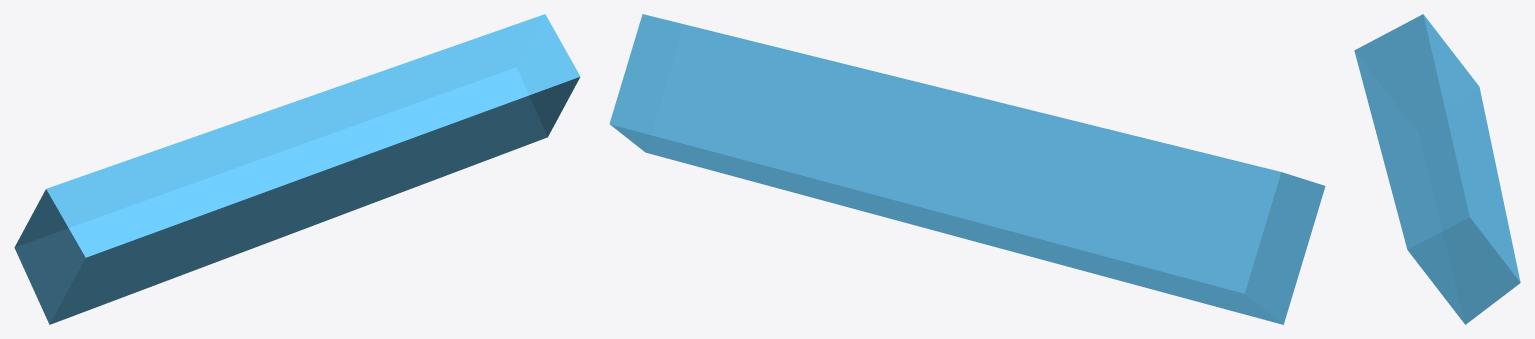
File: Event_421556567_HErechit_24.fbx
3 views of the same model, side by side, from view 1: azimuth 30°, elevation 25°; view 2: azimuth 150°, elevation 25°; view 3: azimuth 270°, elevation 25° (orthographic). The views are drawn at different scales.
Visible parts, largest first — view 1: Model; view 2: Model; view 3: Model.
Boxes of the visible parts, left/top/right/bottom form: Model: left=14, top=14, right=580, bottom=324; Model: left=609, top=14, right=1325, bottom=324; Model: left=1354, top=14, right=1520, bottom=324.
Size of the model in its own units: 1.08 by 0.3163 by 0.3324.
